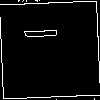I: (24, 24, 65, 41)
